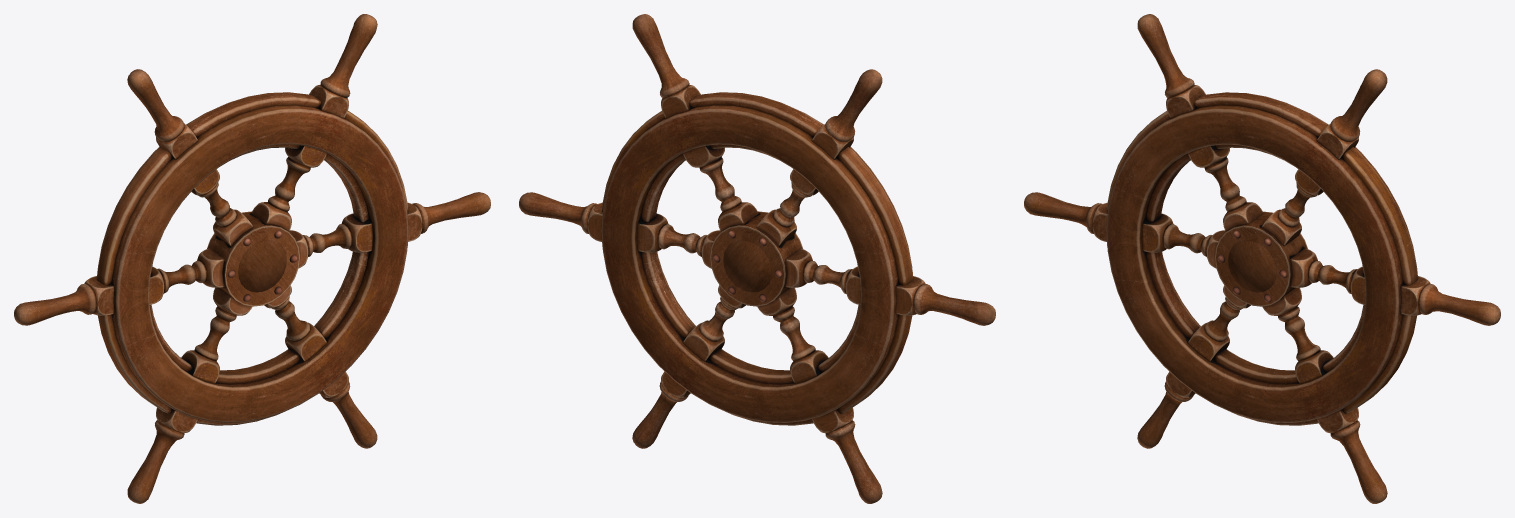
Rendered from ship_wheel.glb.
3 renders of one model, left to right at view 1: azimuth 30°, elevation 25°; view 2: azimuth 150°, elevation 25°; view 3: azimuth 330°, elevation 25°, orthographic.
Visible parts, largest first — view 1: Circle.294_0; view 2: Circle.294_0; view 3: Circle.294_0.
Part boxes in pixels (x1,y1,x2,y2): Circle.294_0: (14, 14, 490, 503); Circle.294_0: (519, 14, 995, 503); Circle.294_0: (1024, 14, 1500, 503).
Size of the model in its own units: 15.78 by 13.79 by 1.59.
Materials: 1 (1 with a texture image).
